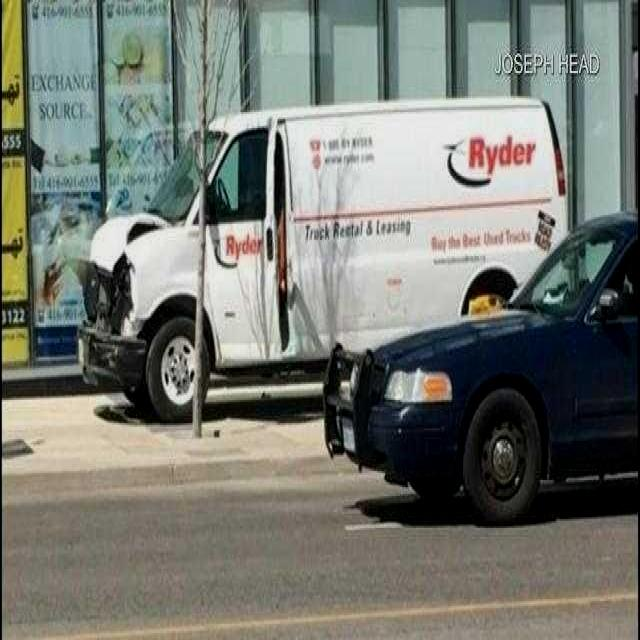Car: (318, 210, 640, 527)
Van: (80, 70, 558, 448)
